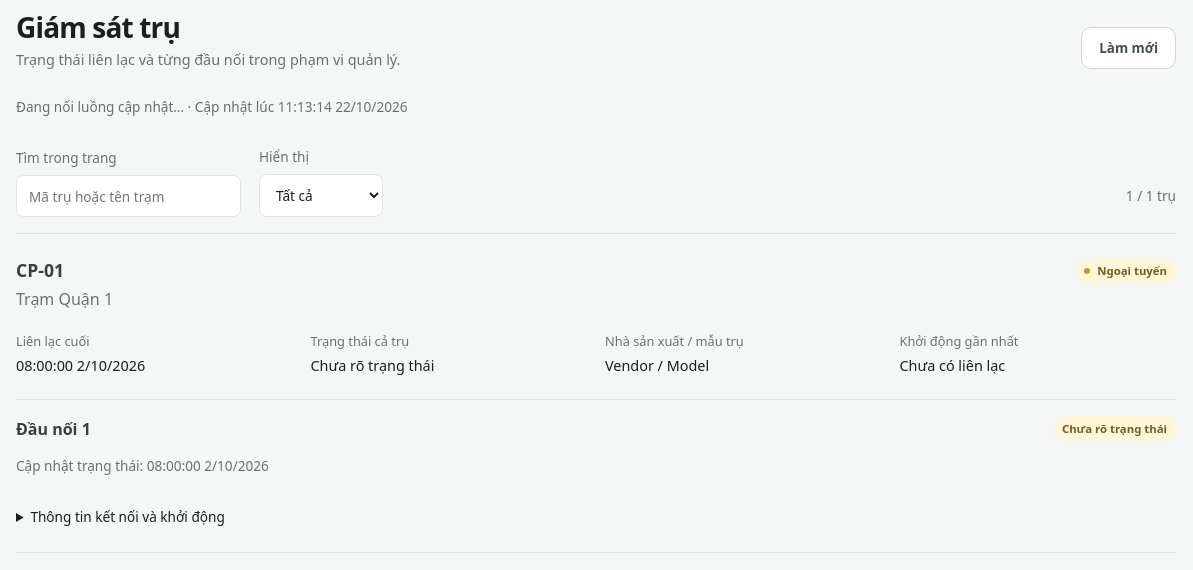
Test: OcppConnectionsPage › shows offline unknown state and filters errors
This screenshot has width=1193, height=570.
Check: the text "Ngoại tuyến" is shown, box [1075, 258, 1176, 283]
Check: the text "Chưa rõ trạng thái" is shown 2 times, box [310, 356, 434, 375]; [1053, 416, 1176, 441]
Select "Có lỗi" in the dropdown labelled "Hiển thị" at [321, 196], box [259, 174, 383, 217]
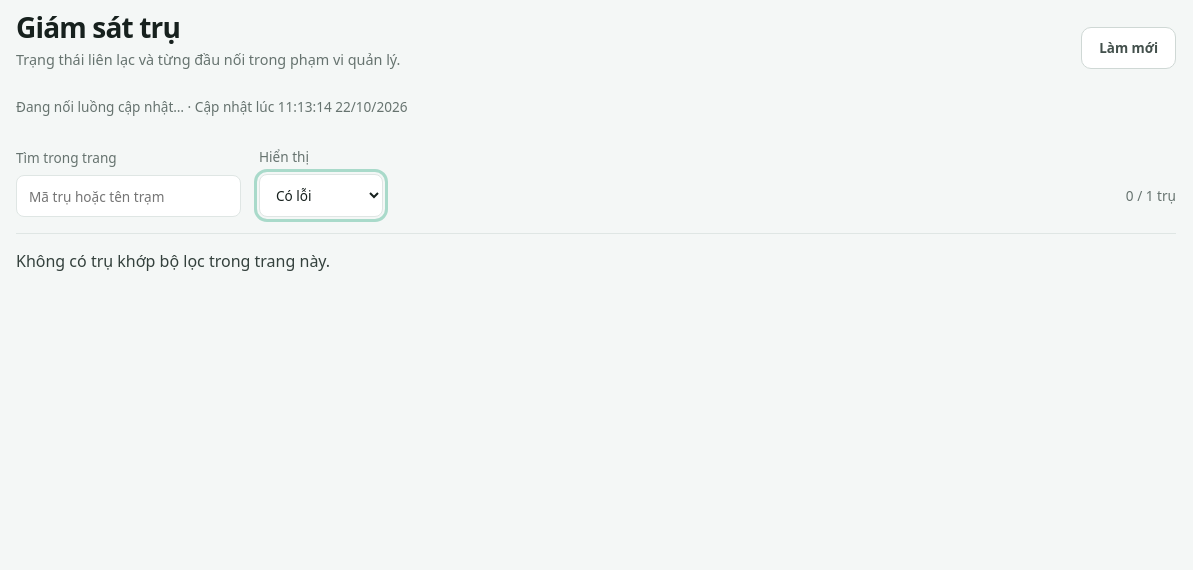
Check: the text "Không có trụ khớp bộ lọc trong trang này." is shown, box [16, 250, 330, 272]
